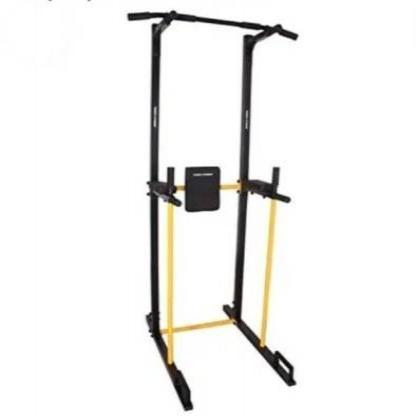chinning dipping: (125, 9, 298, 413)
